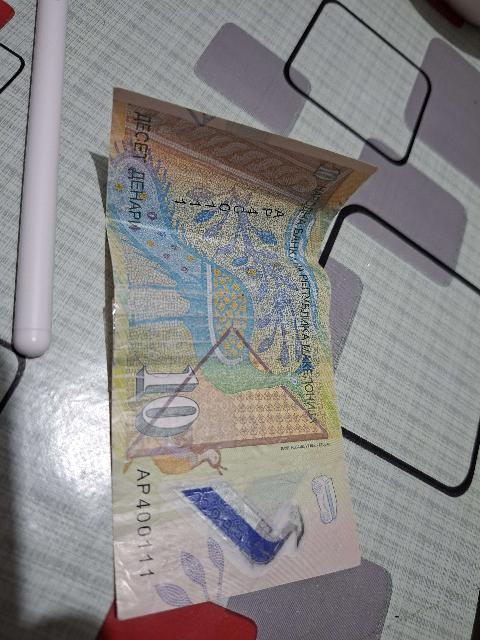10_note: (103, 92, 376, 616)
